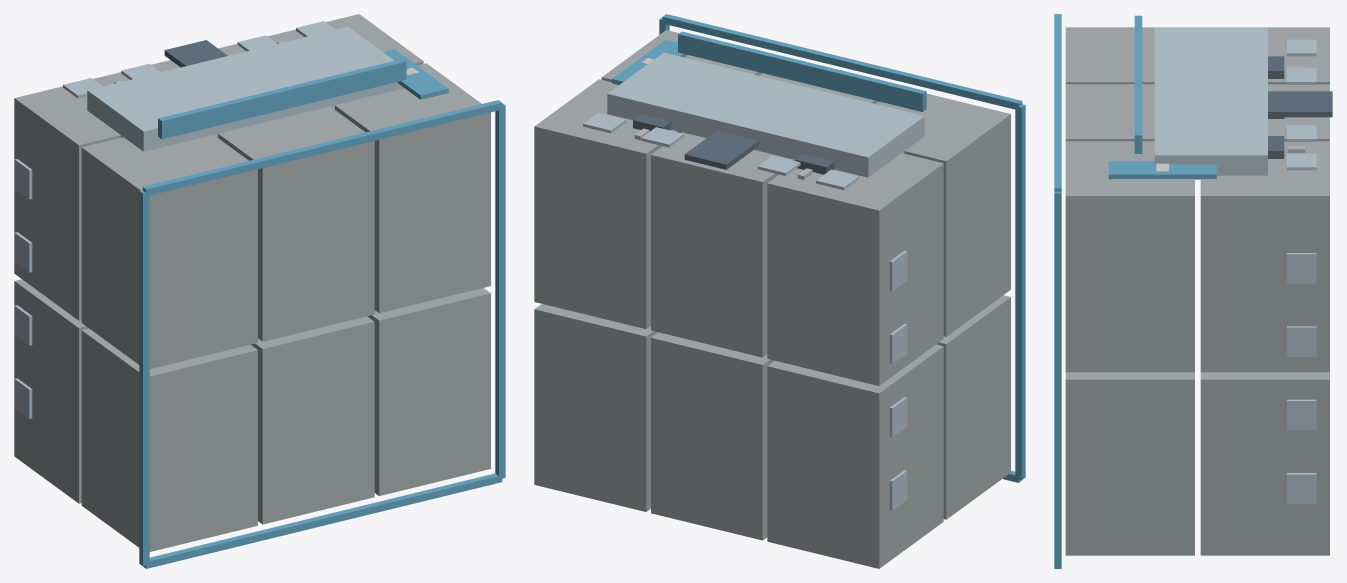
Rendered from building-hardware-shop.glb.
3 views of the same model, side by side, from view 1: azimuth 30°, elevation 25°; view 2: azimuth 150°, elevation 25°; view 3: azimuth 270°, elevation 25° (orthographic).
Parts seen in each view (by area): view 1: world; view 2: world; view 3: world.
Boxes of the visible parts, box(x1,y1,x2,y2) form: world: box(14, 14, 505, 568); world: box(534, 14, 1025, 568); world: box(1054, 14, 1332, 568).
Bounding box in the file's own units: 15.56 × 16.61 × 10.32.
